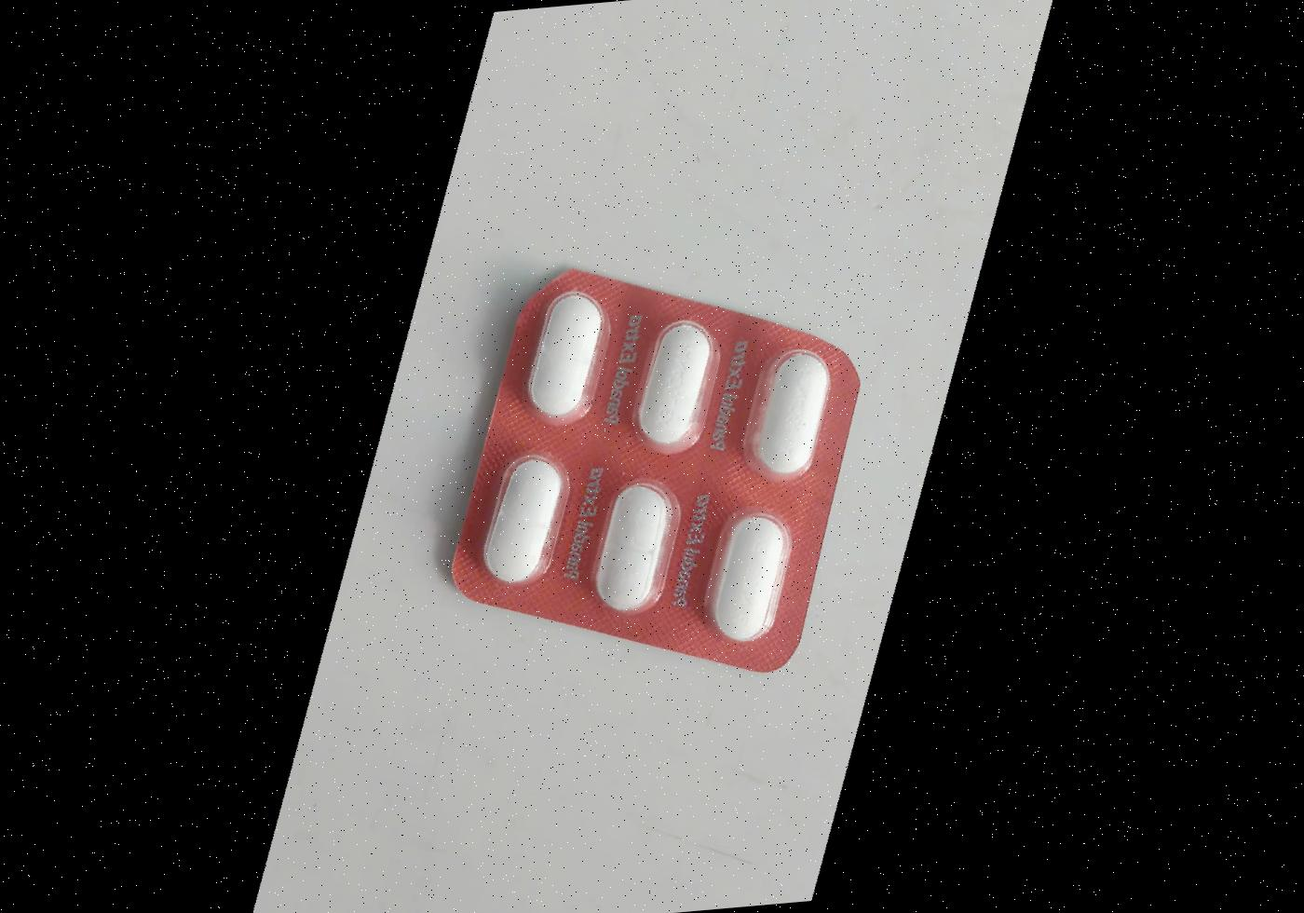Full: (580, 472, 689, 631), (471, 440, 579, 600), (512, 281, 620, 441), (620, 306, 728, 466), (694, 499, 802, 659), (739, 332, 847, 492)
